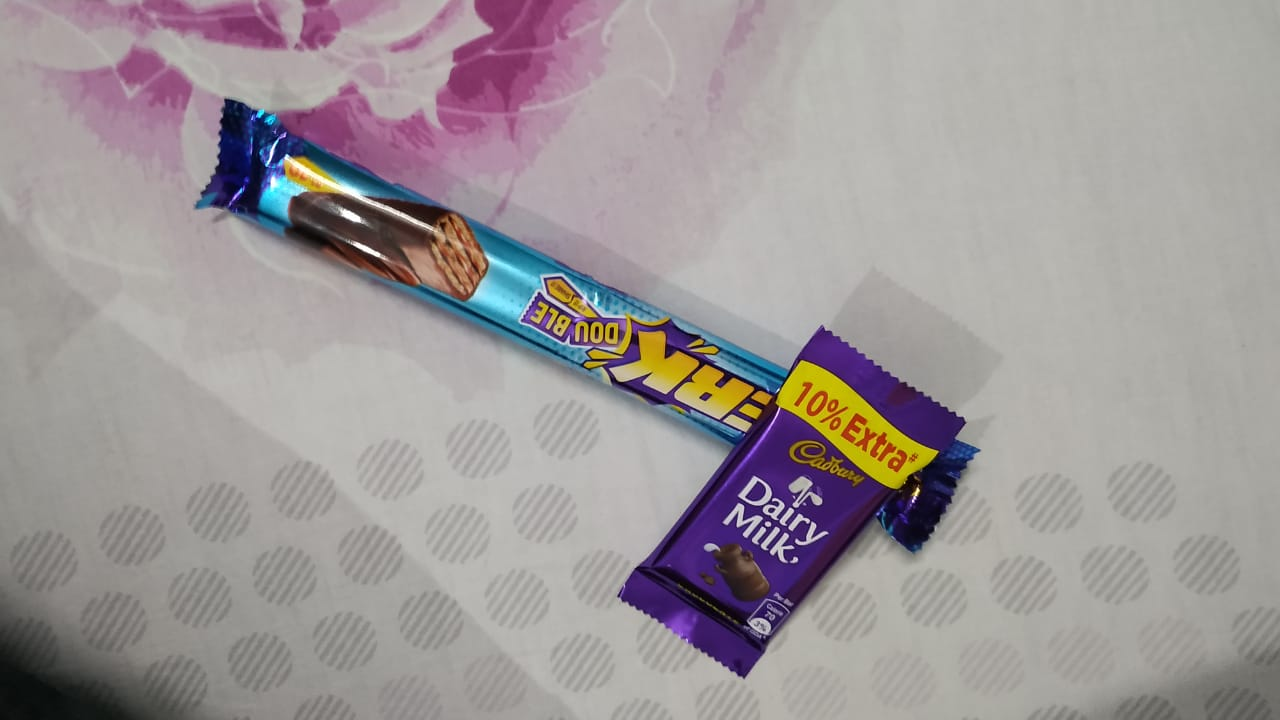dairy milk: (625, 317, 963, 673)
perk: (141, 90, 782, 432)
